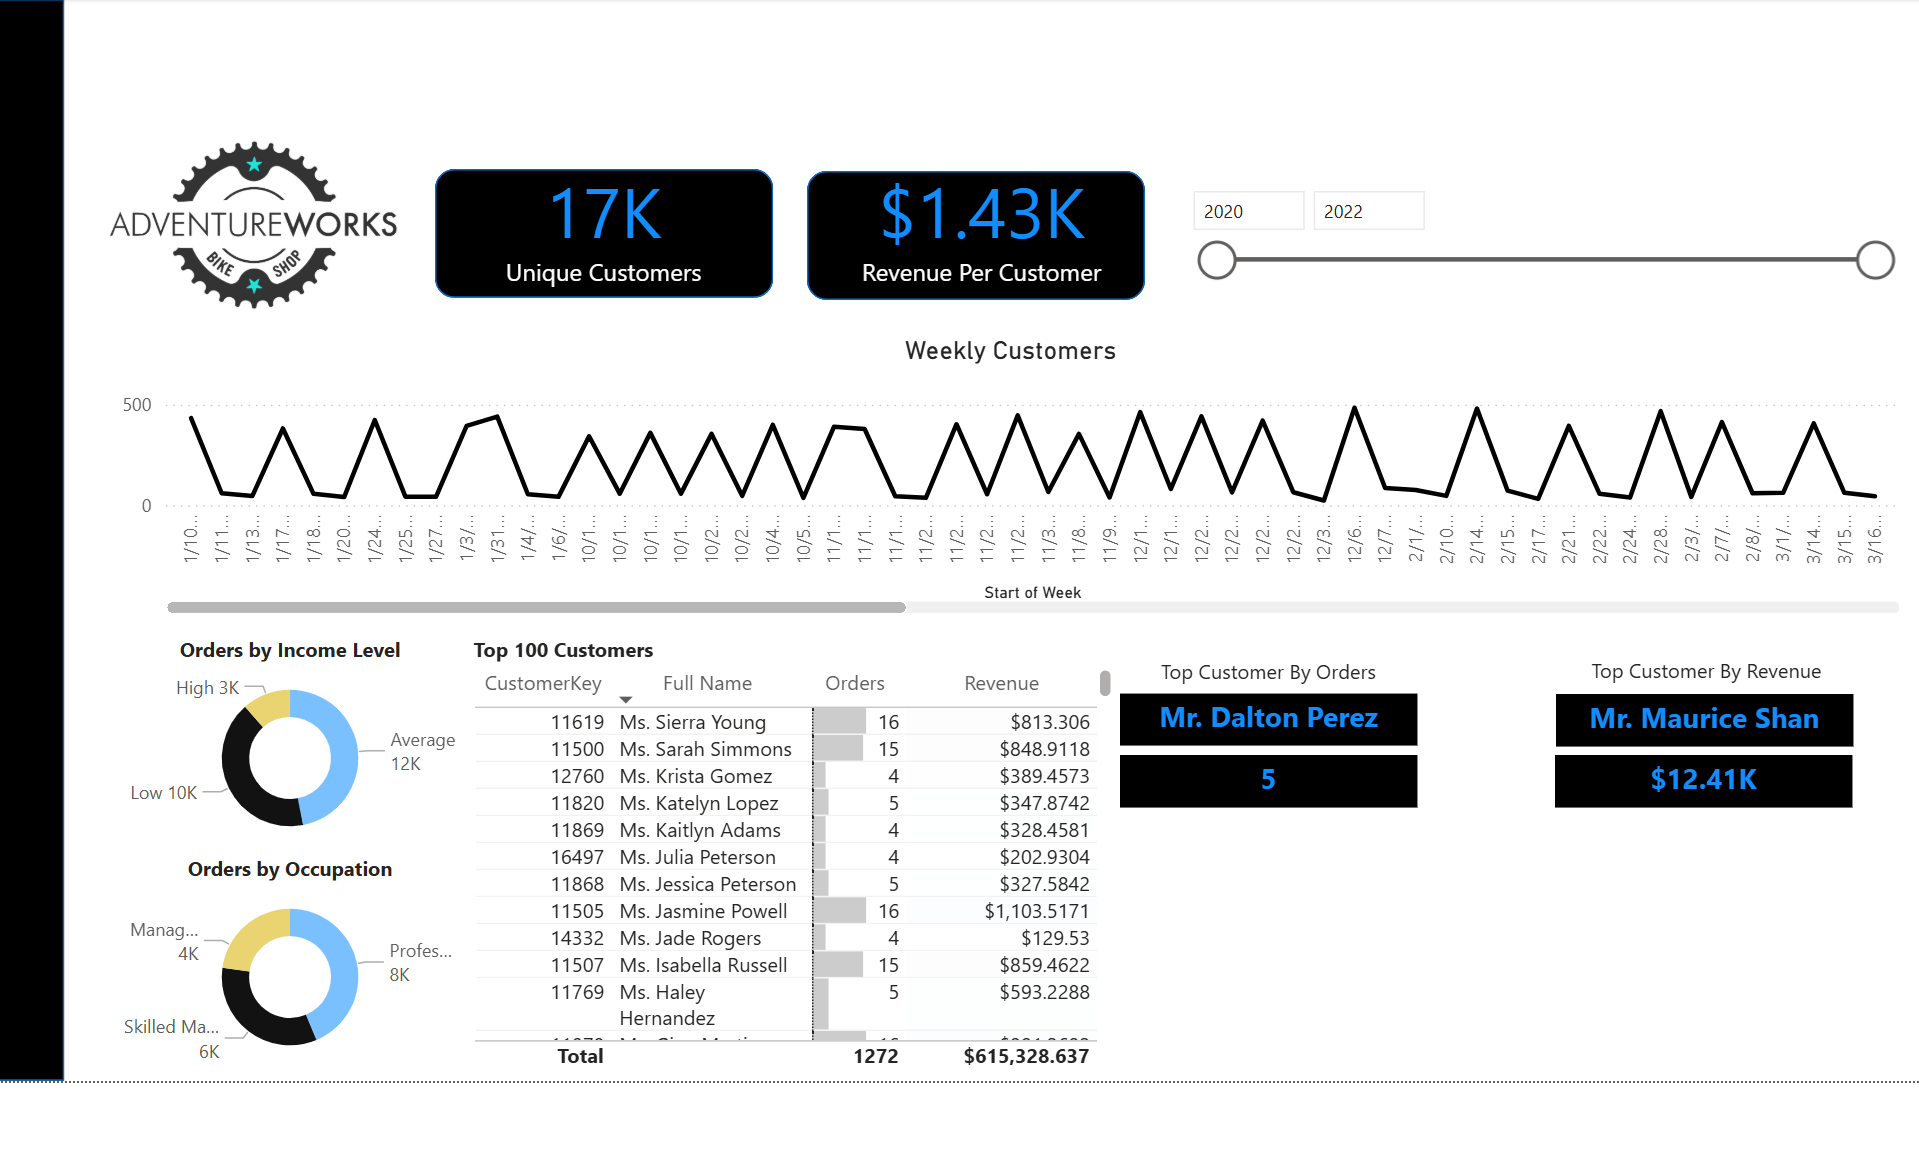

What the dashboard file says about the page in this screenshot:
{"tool":"powerbi","page":{"name":"Customer Detail","canvas":[1280,720],"ordinal":3},"visuals":[{"type":"shape","box":[0,0,44.1,720.1],"z":0},{"type":"card","fields":{"Values":["Measure Table.Total Customers"]},"box":[295.2,49.6,215.1,200.4],"z":0,"group":"g3"},{"type":"image","title":"AW Logo","box":[48.6,28,244.3,244.3],"z":1000},{"type":"group","id":"g1","title":"KPIs","box":[290.8,49.6,473.1,200.4],"z":2000},{"type":"group","id":"g2","title":"KPI Backgrounds","box":[290.8,112.9,472.7,87.1],"z":2000,"group":"g1"},{"type":"shape","box":[538.6,114.1,225,85.9],"z":2000,"group":"g2"},{"type":"group","id":"g3","title":"KPI Values","box":[295.2,49.6,466.9,200.4],"z":3000,"group":"g1"},{"type":"card","fields":{"Values":["Measure Table.Average Revenue Per Customer"]},"box":[547,49.6,215.1,200.4],"z":3000,"group":"g3"},{"type":"shape","box":[290.8,112.9,225.2,85.8],"z":3000,"group":"g2"},{"type":"lineChart","title":"Weekly Customers","fields":{"Category":["Calendar Lookup.Date Hierarchy.Start of Year","Calendar Lookup.Date Hierarchy.Start of Month","Calendar Lookup.Date Hierarchy.Start of Week","Calendar Lookup.Date Hierarchy.Date"],"Y":["Measure Table.Total Customers"]},"box":[77.2,223.7,1193.5,190.4],"z":3000},{"type":"donutChart","title":"Orders by Income Level","fields":{"Category":["Customer Lookup.Income Level"],"Y":["Measure Table.Total Orders"]},"box":[77.2,424,234.4,145.5],"z":4000},{"type":"donutChart","title":"Orders by Occupation","fields":{"Category":["Customer Lookup.Occupation"],"Y":["Measure Table.Total Orders"]},"box":[77.2,569.5,234.4,145.5],"z":5000},{"type":"tableEx","title":"Top 100 Customers","fields":{"Values":["Customer Lookup.CustomerKey","Customer Lookup.Full Name","Measure Table.Total Orders","Measure Table.Total Revenue"]},"box":[311.5,424,435.3,291.5],"z":6000},{"type":"group","id":"g4","title":"Group 1","box":[746.5,433.5,197.7,63.2],"z":7000},{"type":"group","id":"g5","title":"Group 1","box":[1036.8,432.8,199.1,63.9],"z":8000},{"type":"card","fields":{"Values":["Min(Customer Lookup.Full Name)"]},"box":[746.5,462.2,197.7,34.5],"z":9000,"group":"g4"},{"type":"card","fields":{"Values":["Min(Customer Lookup.Full Name)"]},"box":[1036.8,462.5,197.7,34.5],"z":9000,"group":"g5"},{"type":"card","fields":{"Values":["CountNonNull(Customer Lookup.CustomerKey)"]},"box":[746.5,503.3,197.7,34.5],"z":9000},{"type":"textbox","box":[1038.3,432.8,197.7,28.7],"z":10000,"group":"g5"},{"type":"textbox","box":[746.5,433.5,197.7,28.7],"z":10000,"group":"g4"},{"type":"card","fields":{"Values":["Measure Table.Total Revenue"]},"box":[1036.1,503.3,197.7,34.5],"z":10000},{"type":"slicer","fields":{"Values":["Calendar Lookup.Year"]},"box":[782.5,117.6,487.9,81.6],"z":11000}]}

Visuals, with their boxes on the page's 1280x720 design canvas (x1, y1, x2, y2). These are canvas units, not pixel positions in the 1919x1155 screenshot, which may show the page scaled, cropped or inside an application window:
shape: (left=0, top=0, right=44, bottom=720)
card - Measure Table.Total Customers: (left=295, top=50, right=510, bottom=250)
"AW Logo" image: (left=49, top=28, right=293, bottom=272)
"KPIs" group: (left=291, top=50, right=764, bottom=250)
"KPI Backgrounds" group: (left=291, top=113, right=764, bottom=200)
shape: (left=539, top=114, right=764, bottom=200)
"KPI Values" group: (left=295, top=50, right=762, bottom=250)
card - Measure Table.Average Revenue Per Customer: (left=547, top=50, right=762, bottom=250)
shape: (left=291, top=113, right=516, bottom=199)
"Weekly Customers" lineChart: (left=77, top=224, right=1271, bottom=414)
"Orders by Income Level" donutChart: (left=77, top=424, right=312, bottom=570)
"Orders by Occupation" donutChart: (left=77, top=570, right=312, bottom=715)
"Top 100 Customers" tableEx: (left=312, top=424, right=747, bottom=716)
"Group 1" group: (left=746, top=434, right=944, bottom=497)
"Group 1" group: (left=1037, top=433, right=1236, bottom=497)
card - Min(Customer Lookup.Full Name): (left=746, top=462, right=944, bottom=497)
card - Min(Customer Lookup.Full Name): (left=1037, top=462, right=1234, bottom=497)
card - CountNonNull(Customer Lookup.CustomerKey): (left=746, top=503, right=944, bottom=538)
textbox: (left=1038, top=433, right=1236, bottom=462)
textbox: (left=746, top=434, right=944, bottom=462)
card - Measure Table.Total Revenue: (left=1036, top=503, right=1234, bottom=538)
slicer - Calendar Lookup.Year: (left=782, top=118, right=1270, bottom=199)
